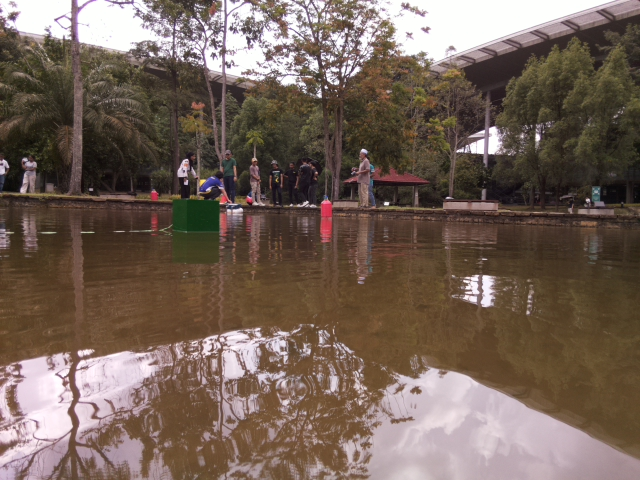obstacle: (172, 200, 220, 235)
